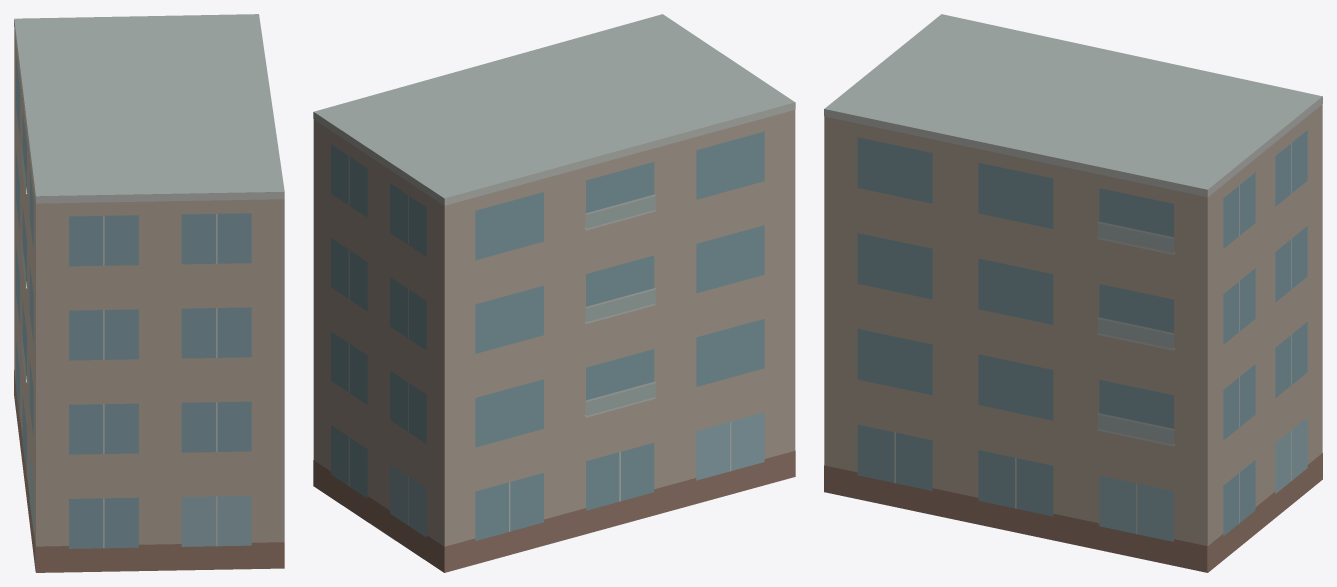
File: survey-upis-32996371.glb
3 views of the same model, side by side, from view 1: azimuth 30°, elevation 25°; view 2: azimuth 150°, elevation 25°; view 3: azimuth 270°, elevation 25° (orthographic). The views are drawn at different scales.
Visible parts, largest first — view 1: survey-upis-32996371.tmp; view 2: survey-upis-32996371.tmp; view 3: survey-upis-32996371.tmp.
Part boxes in pixels (<box>): survey-upis-32996371.tmp: <box>14,14,284,572</box>; survey-upis-32996371.tmp: <box>313,14,795,572</box>; survey-upis-32996371.tmp: <box>824,14,1322,572</box>.
Bounding box in the file's own units: 12.21 × 12.4 × 14.63.
